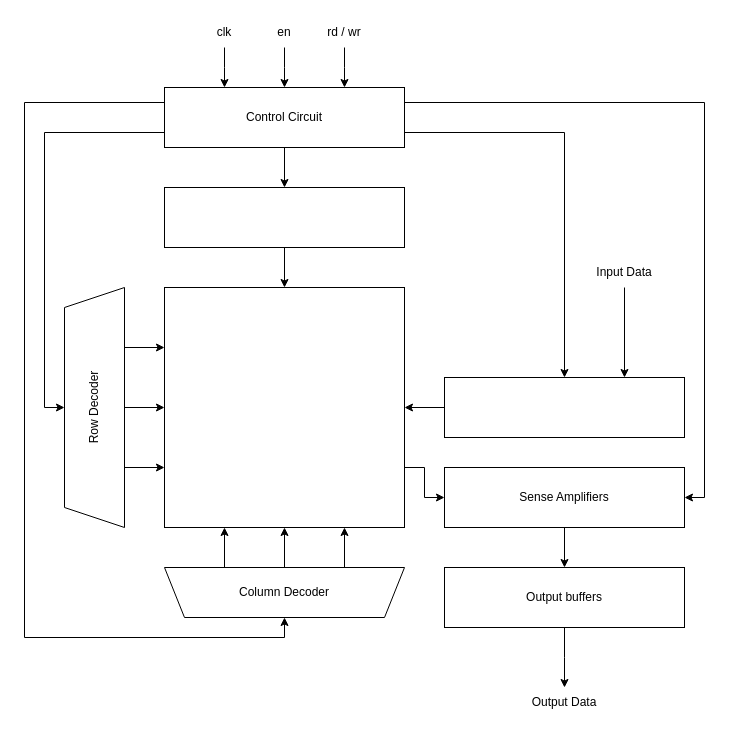
Image size: 730x734. Some labels were removed from this diagram. The shapes that lost their labels are listed below. From the top down, each one's centre as x and y in pixels, then its label:
pixel 284 217: Pre-Charge System
pixel 284 407: Memory Array
pixel 564 407: Write Circuit
